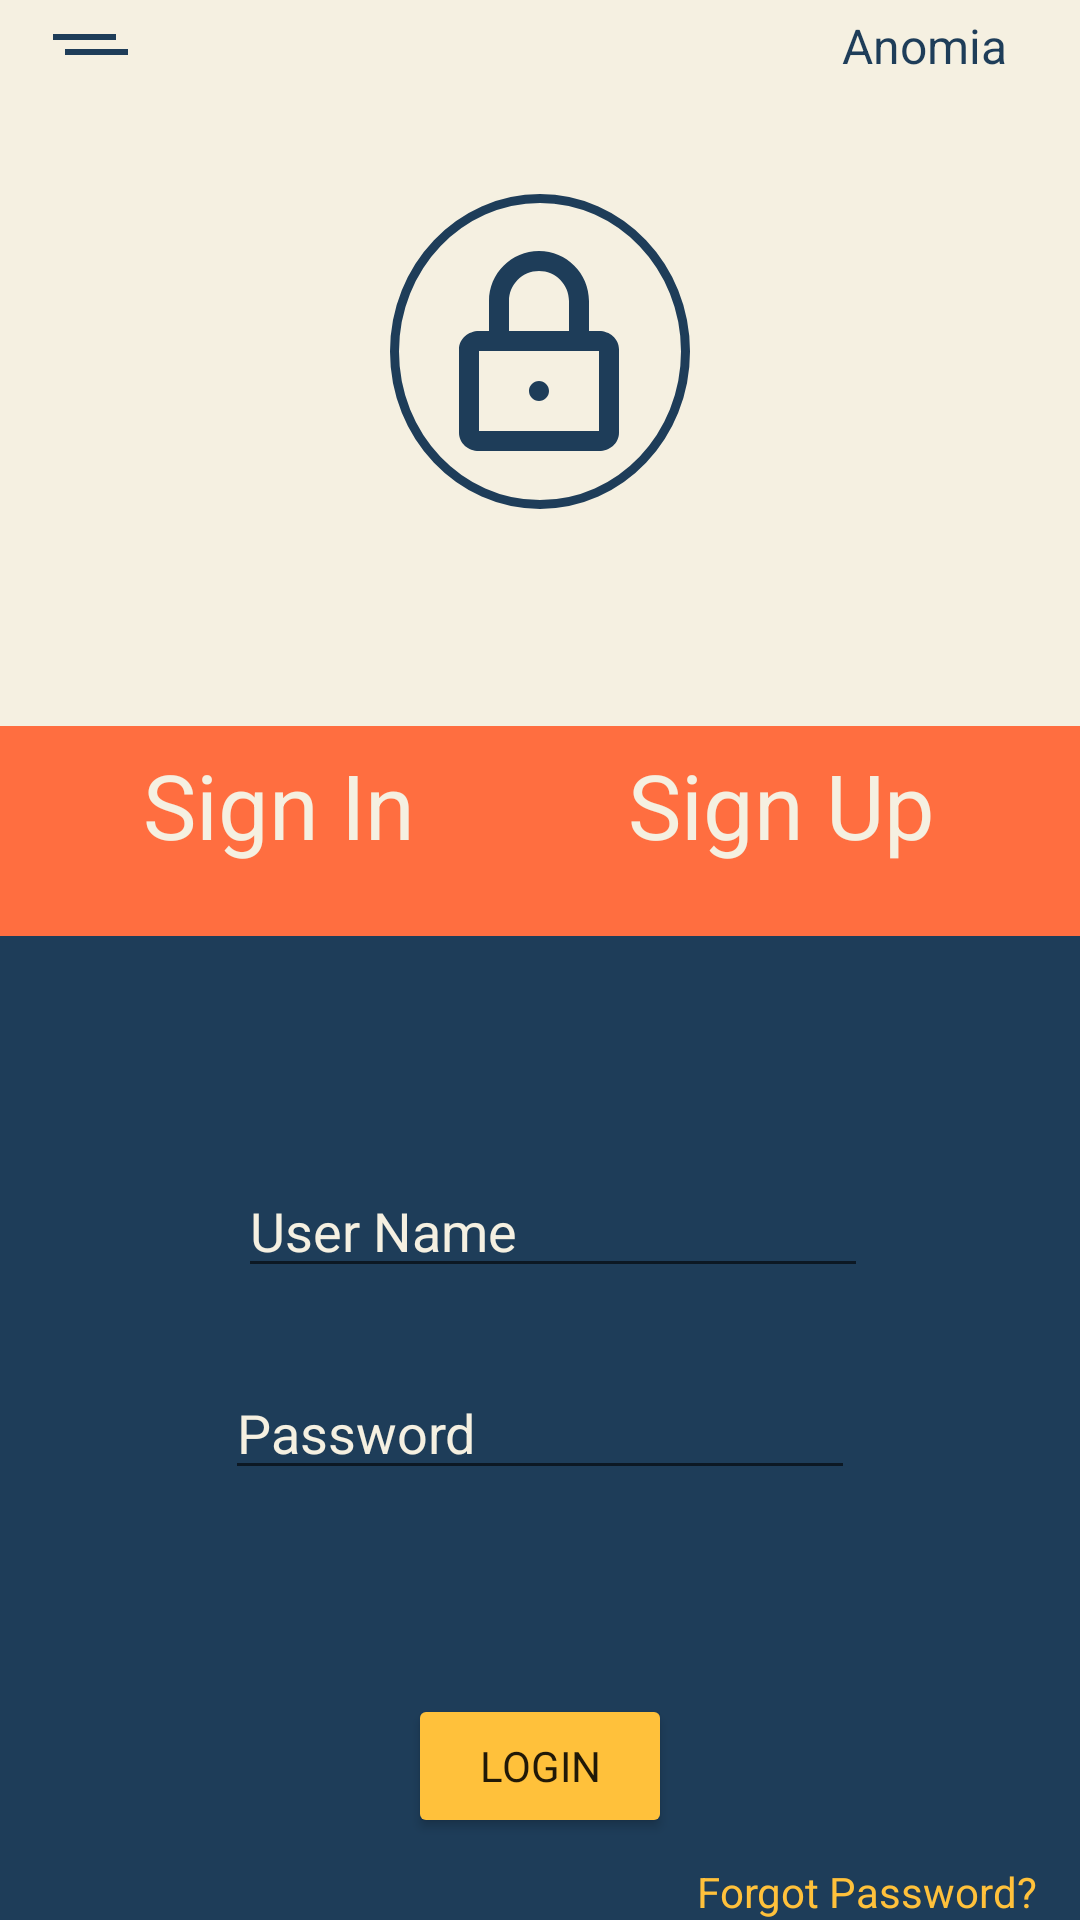

Named icons in this screenshot (1080*1920) and their bounding boxes, (x1, y1, x2, y2):
cadenas: (390, 194, 690, 509)
menu: (53, 34, 128, 55)
